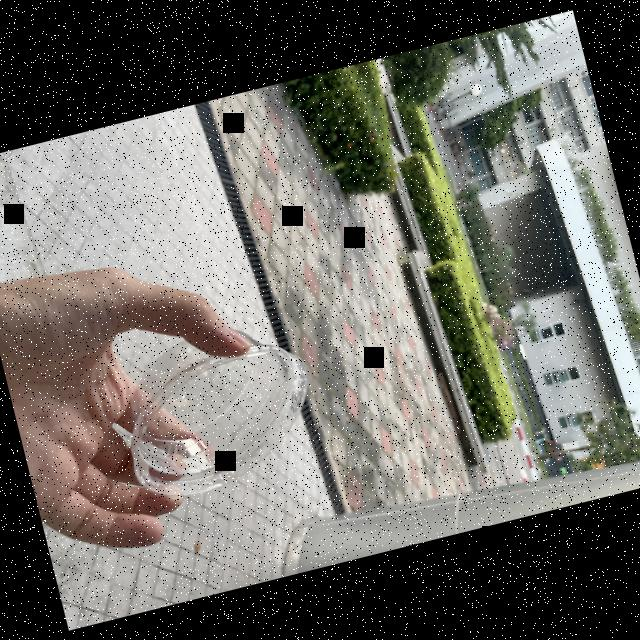plastic_cup_lid: (101, 308, 332, 509)
